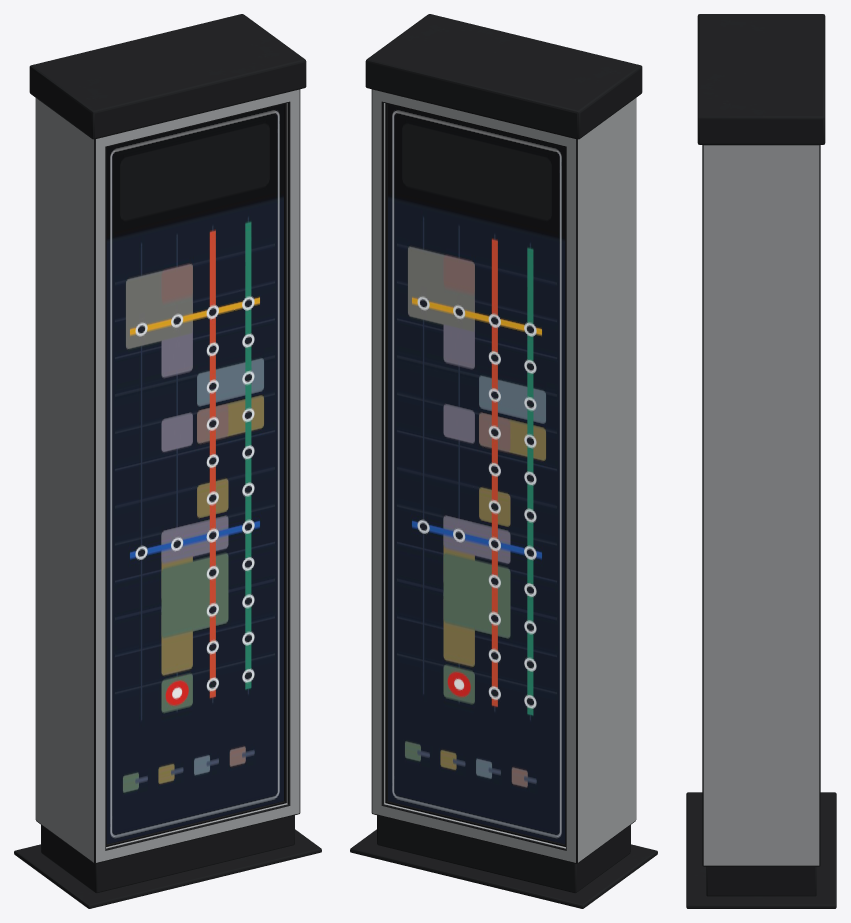
The model's file is gteki_sign_totem_dark.glb.
The picture shows the model from 3 angles, left to right: view 1: azimuth 30°, elevation 25°; view 2: azimuth 150°, elevation 25°; view 3: azimuth 270°, elevation 25°; orthographic projection.
Parts seen in each view (by area): view 1: VIS_faces, VIS_frame, VIS_base; view 2: VIS_faces, VIS_frame, VIS_base; view 3: VIS_frame, VIS_base.
Boxes of the visible parts, x1=… form: VIS_faces: x1=106, y1=104, x2=283, y2=844; VIS_frame: x1=29, y1=14, x2=306, y2=863; VIS_base: x1=14, y1=815, x2=321, y2=908; VIS_faces: x1=388, y1=104, x2=565, y2=844; VIS_frame: x1=365, y1=14, x2=642, y2=863; VIS_base: x1=350, y1=815, x2=657, y2=908; VIS_frame: x1=697, y1=14, x2=825, y2=866; VIS_base: x1=686, y1=792, x2=836, y2=908.
Size of what is drawn, in the model's own units: 0.68 by 2.2 by 0.38.
4 materials, 2 textured.
